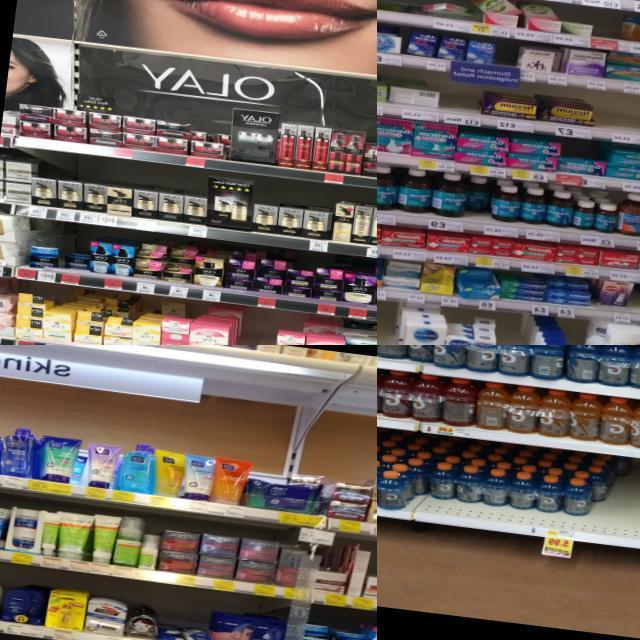empty: (440, 80, 480, 127), (605, 98, 640, 145), (590, 10, 621, 50), (490, 314, 525, 345), (377, 300, 398, 345), (233, 314, 258, 345), (253, 313, 276, 345), (564, 318, 587, 345), (631, 285, 640, 325)
